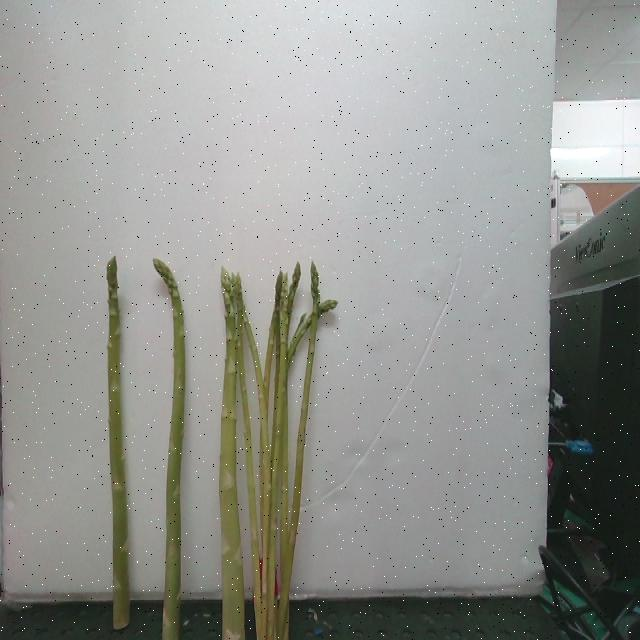aspargus: (155, 263, 187, 640), (103, 257, 131, 631)
